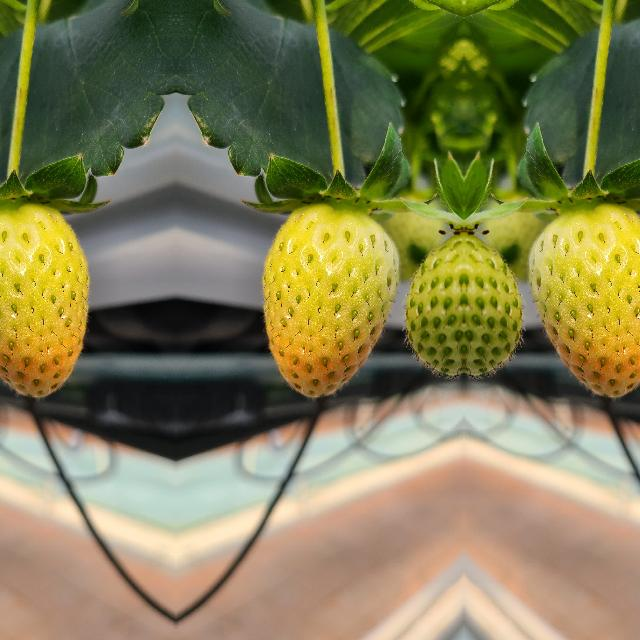Health_25: (400, 222, 462, 382), (464, 222, 526, 382)
Health_50: (262, 204, 396, 396), (529, 204, 640, 396), (0, 204, 88, 396)
